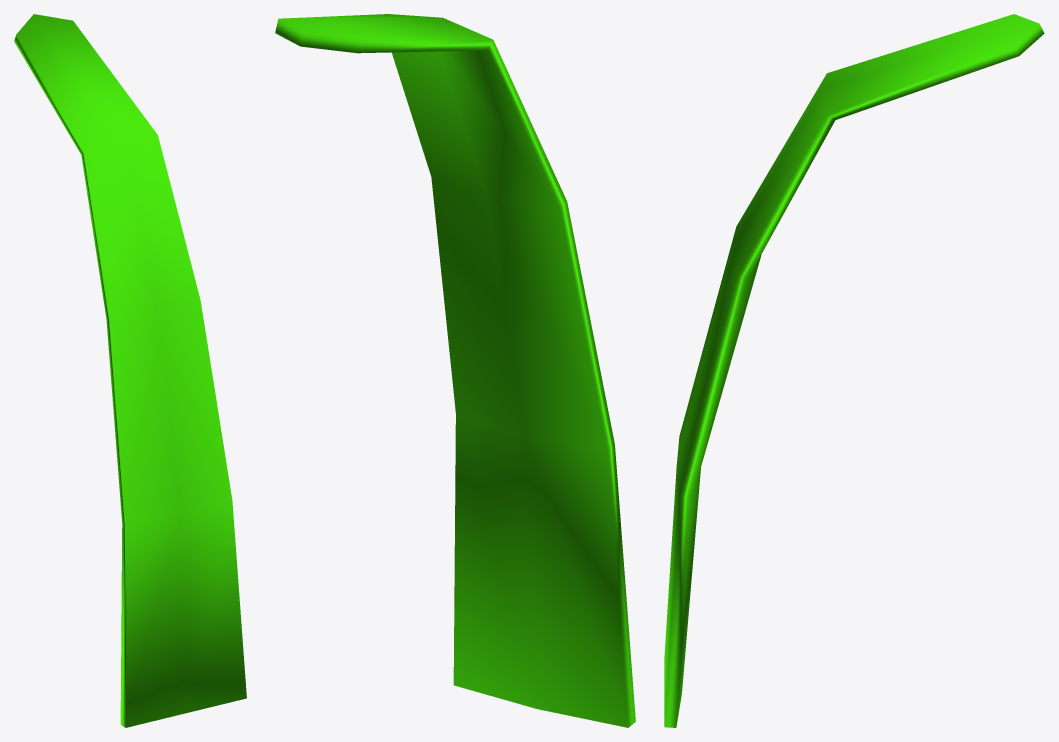
Rendered from Hierba_01.fbx.
The picture shows the model from 3 angles, left to right: view 1: azimuth 30°, elevation 25°; view 2: azimuth 150°, elevation 25°; view 3: azimuth 270°, elevation 25°; orthographic projection. The views are drawn at different scales.
Parts seen in each view (by area): view 1: SM_Hierba_01; view 2: SM_Hierba_01; view 3: SM_Hierba_01.
Part boxes in pixels (bbox=[...]): SM_Hierba_01: bbox=[14, 14, 246, 727]; SM_Hierba_01: bbox=[275, 14, 635, 727]; SM_Hierba_01: bbox=[664, 14, 1044, 727].
Size of the model in its own units: 4.94 by 22.57 by 11.53.
